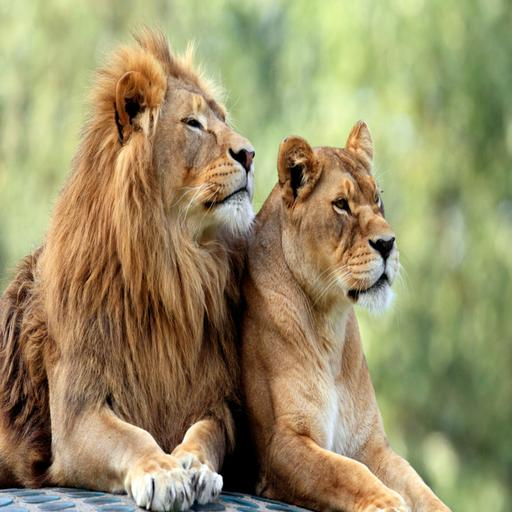Lion: (0, 116, 499, 512), (0, 23, 263, 510)
